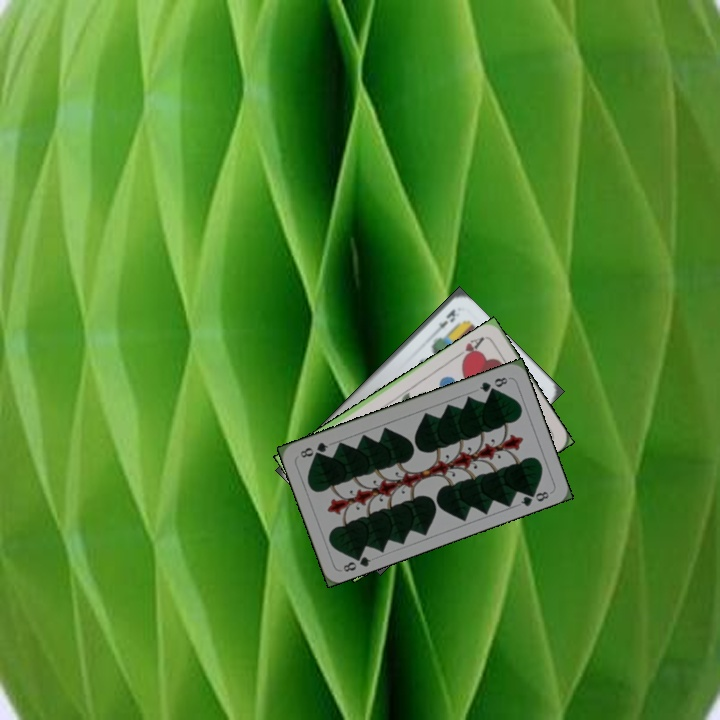EK: (428, 305, 462, 338)
G8: (339, 549, 373, 575), (475, 373, 512, 395)
HA: (452, 333, 487, 364)
